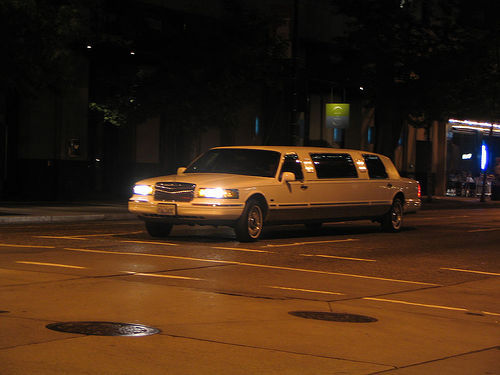car: (120, 142, 425, 244)
